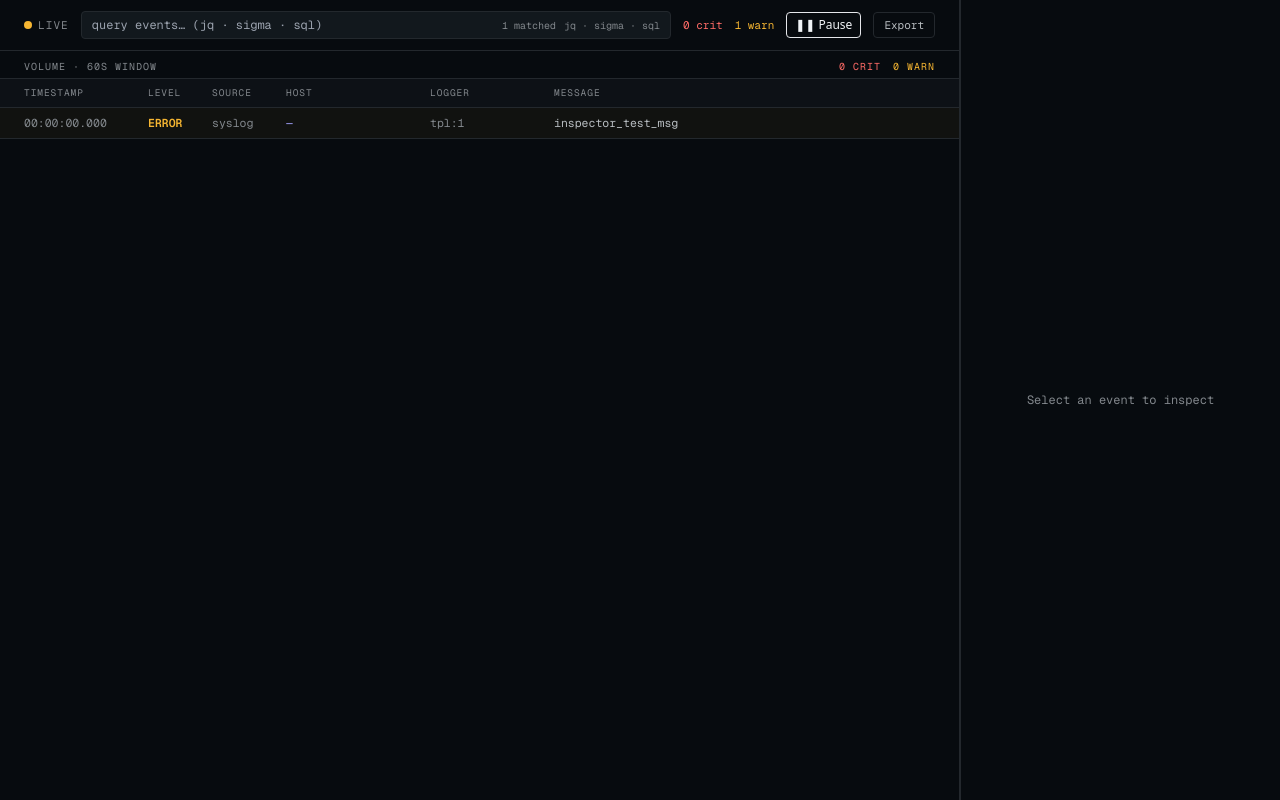
EventsScreen › shows inspector details when an event row is clicked
The width and height of the screenshot is (1280, 800).
Step 1. Click the button with aria-label "event row" → click(65, 123), box left=0, top=108, right=959, bottom=139
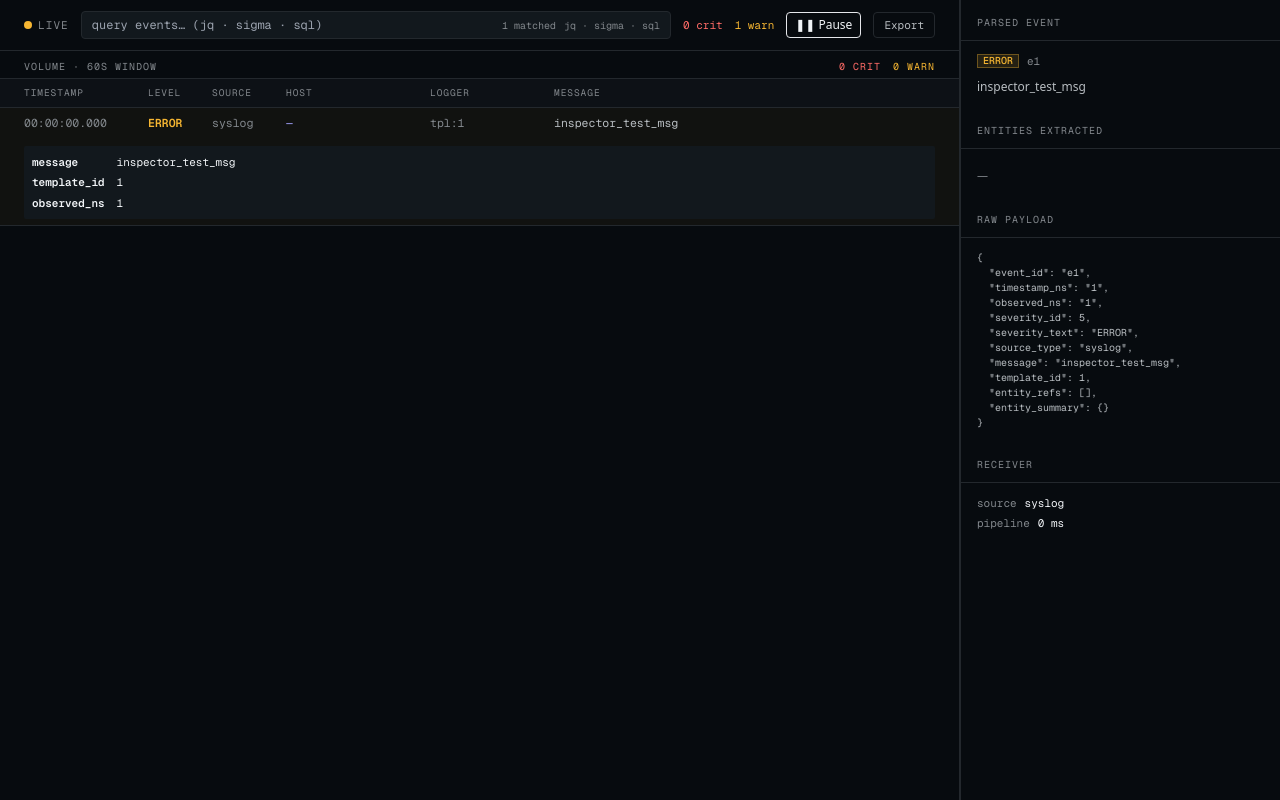
Now the text with test id "inspector-severity" reads "ERROR", box left=983, top=54, right=1013, bottom=67
